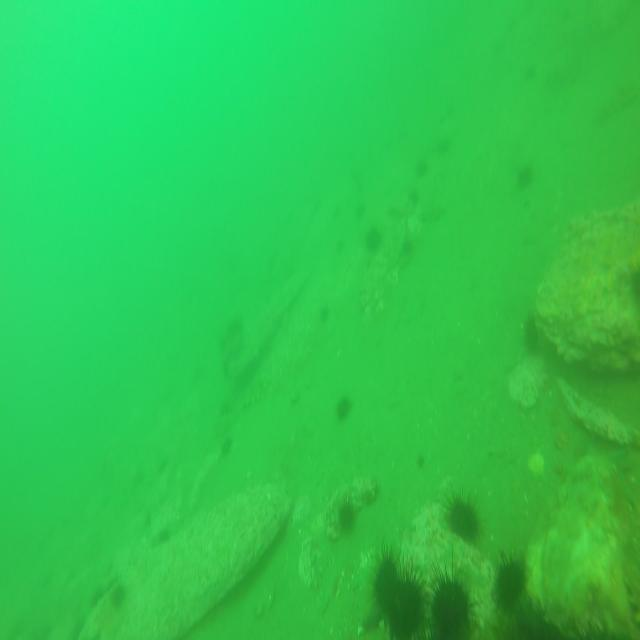echinus: (428, 568, 476, 640), (439, 482, 485, 549), (386, 572, 425, 639), (492, 549, 530, 608), (372, 548, 402, 606), (332, 492, 358, 541), (519, 312, 547, 357), (515, 161, 536, 190), (109, 580, 128, 610), (336, 391, 354, 421), (366, 226, 382, 255), (414, 153, 428, 179), (436, 142, 449, 158)
